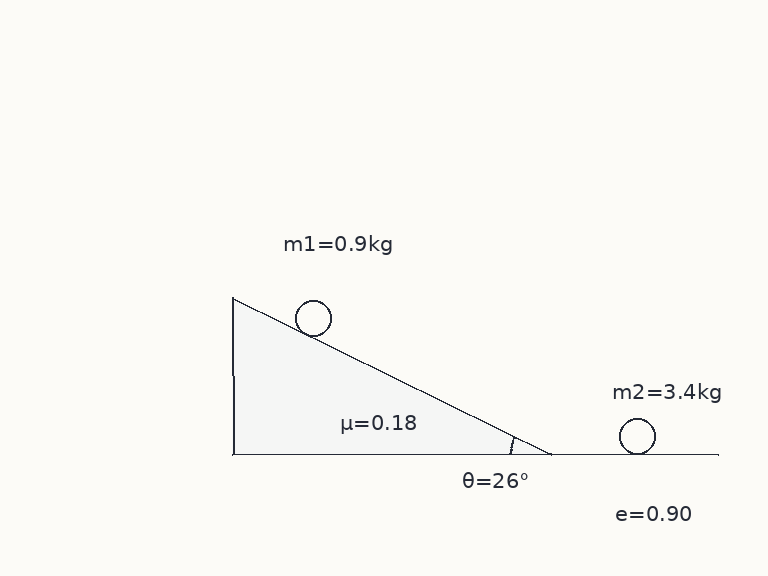ball: (293, 298, 333, 338), (617, 416, 657, 456)
ramp: (231, 297, 553, 456)
